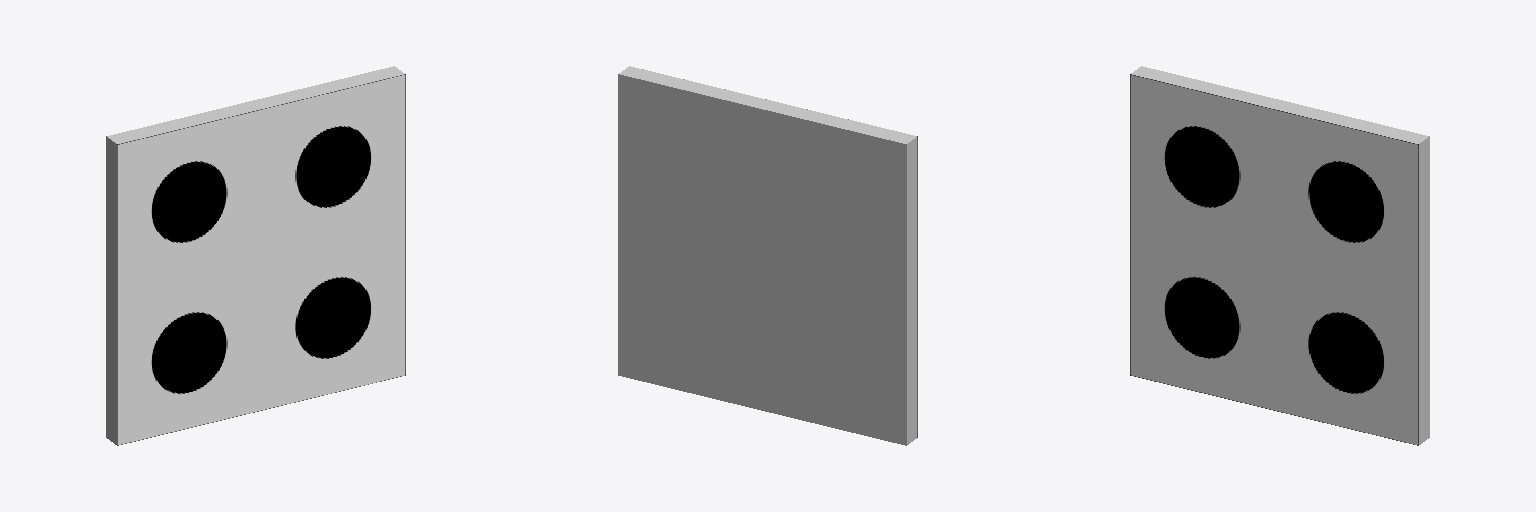
3 renders of one model, left to right at view 1: azimuth 30°, elevation 25°; view 2: azimuth 150°, elevation 25°; view 3: azimuth 330°, elevation 25°, orthographic.
Parts seen in each view (by area): view 1: Cube_Cube.001; view 2: Cube_Cube.001; view 3: Cube_Cube.001.
Boxes of the visible parts, <box> form: Cube_Cube.001: <box>106,66,405,445</box>; Cube_Cube.001: <box>618,66,917,445</box>; Cube_Cube.001: <box>1130,66,1429,445</box>.
Bounding box in the file's own units: 8 × 8 × 0.5298.
Materials: 1 (1 with a texture image).